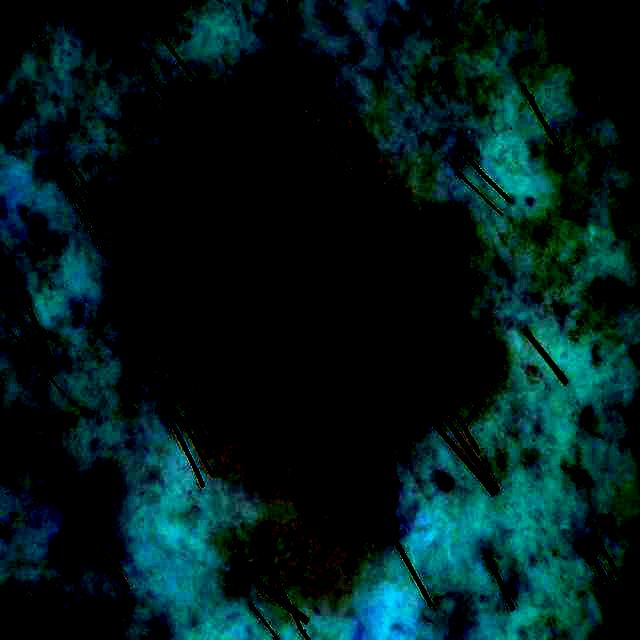MEL: (126, 43, 458, 543), (403, 250, 442, 336), (301, 348, 338, 374), (303, 314, 329, 343), (369, 338, 387, 353), (343, 306, 355, 326), (481, 361, 494, 373), (329, 313, 338, 329), (447, 408, 457, 422), (438, 320, 445, 336), (291, 295, 300, 305), (419, 378, 426, 388), (410, 365, 420, 371)
